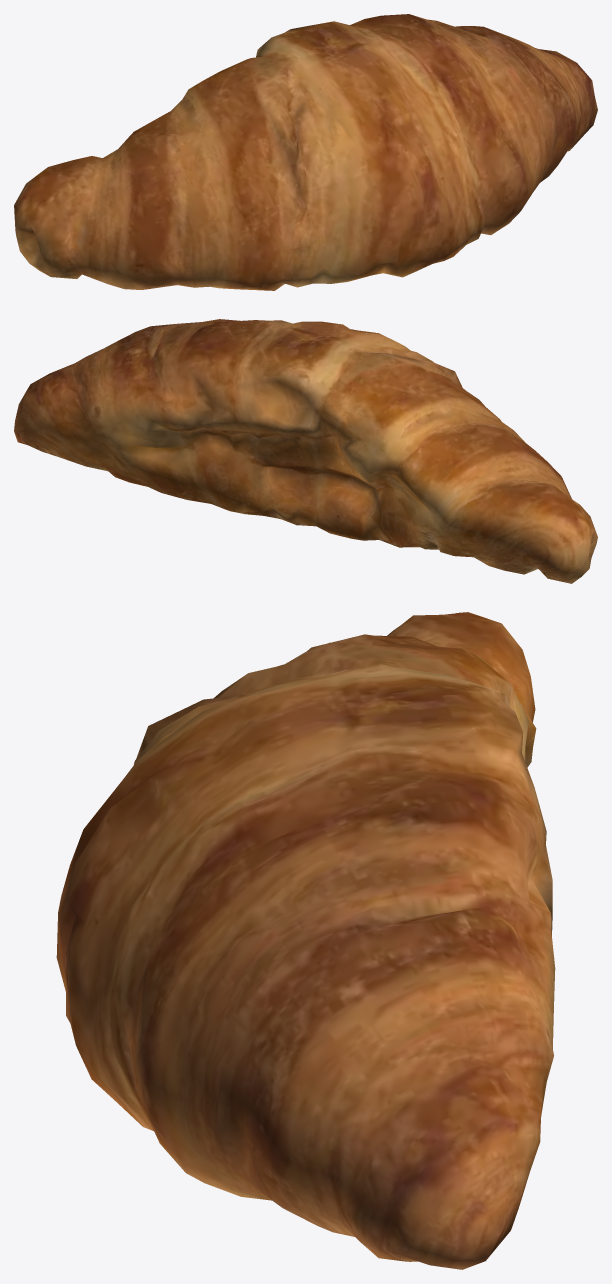
The model's file is croissant.glb.
The picture shows the model from 3 angles, top to bottom: view 1: azimuth 30°, elevation 25°; view 2: azimuth 150°, elevation 25°; view 3: azimuth 270°, elevation 25°; orthographic projection. The views are drawn at different scales.
Visible parts, largest first — view 1: croissant; view 2: croissant; view 3: croissant.
Part boxes in pixels (x1,y1,x2,y2): croissant: (14,14,597,290); croissant: (14,319,597,583); croissant: (56,612,555,1269).
Bounding box in the file's own units: 0.2 × 0.062 × 0.0755.
Materials: 1 (1 with a texture image).
